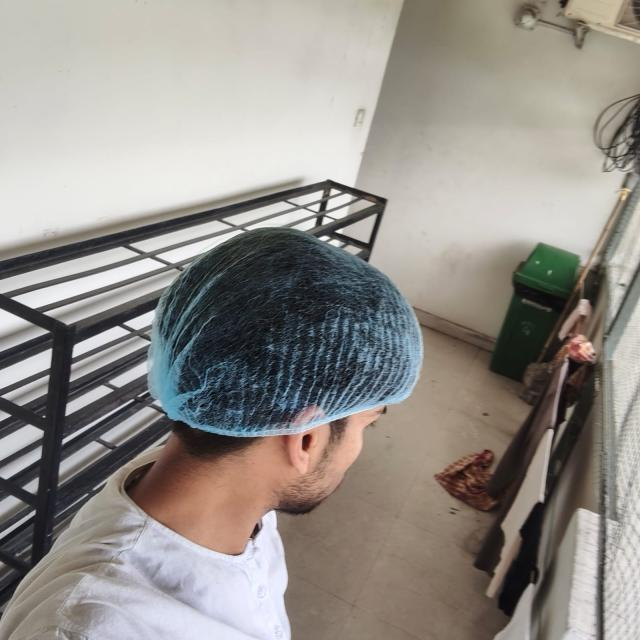hairnet-detection: (148, 227, 422, 438)
